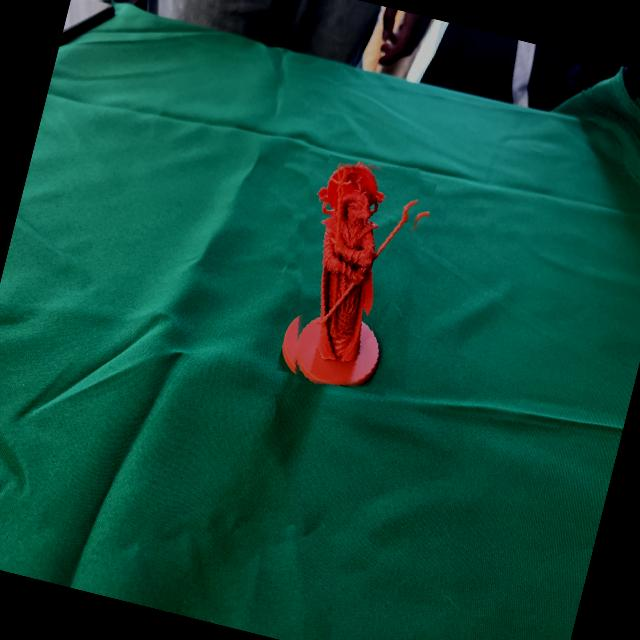amon: (266, 148, 447, 402)
